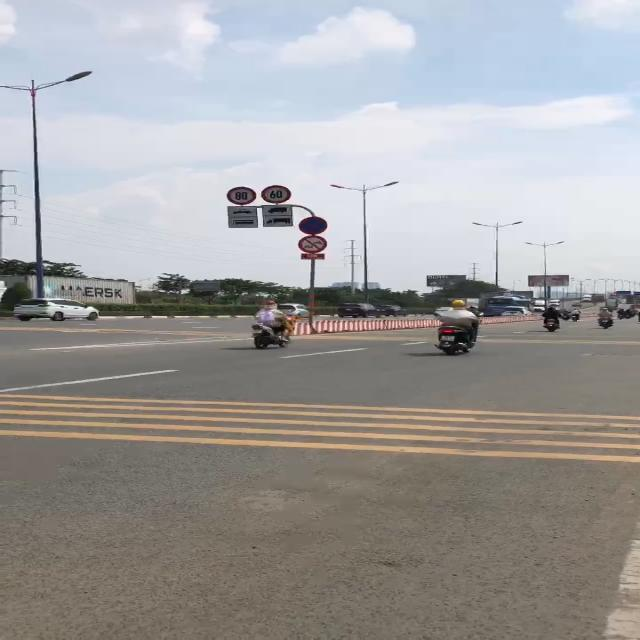Bien bao toc do toi da cho phep: (260, 184, 295, 205), (226, 184, 256, 205)
